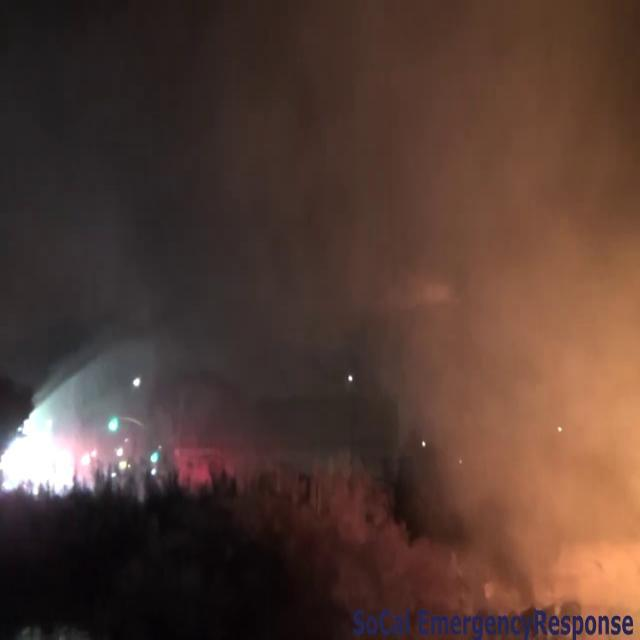Smoke: (393, 3, 640, 615)
